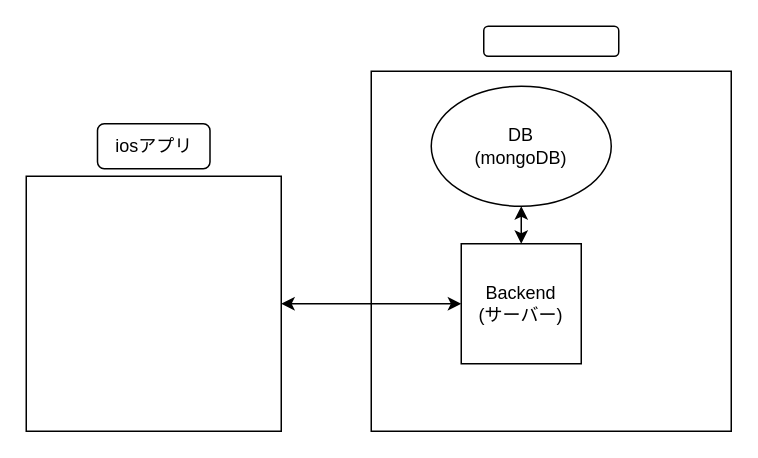
Some shapes in this 758 by 458 pixel diagram are drawn without their labels. Here are the shapes that lost their labels. From the top down, the centre of each, then its label:
At (x=550, y=40): "本体サーバー".
At (x=153, y=303): "app (ユーザーインターフェース)".
